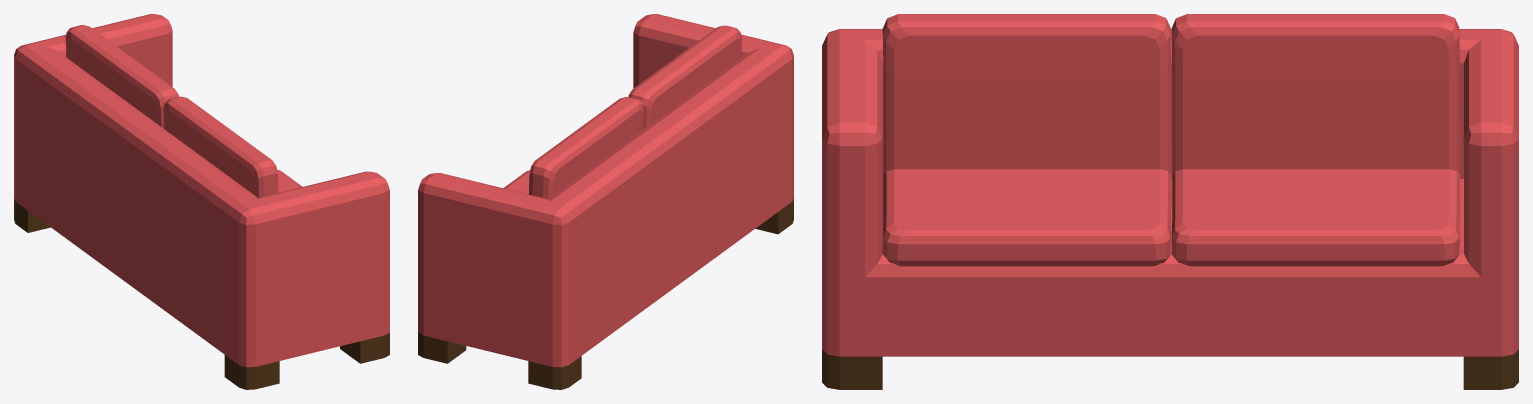
The model's file is sofa.fbx.
The picture shows the model from 3 angles, left to right: view 1: azimuth 30°, elevation 25°; view 2: azimuth 150°, elevation 25°; view 3: azimuth 270°, elevation 25°; orthographic projection. The views are drawn at different scales.
Visible parts, largest first — view 1: Cube; view 2: Cube; view 3: Cube.
Boxes of the visible parts, x1,y1,x2,y2 form: Cube: (14,14,389,389); Cube: (418,14,793,389); Cube: (822,14,1518,389).
Bounding box in the file's own units: 132 × 169 × 360.
